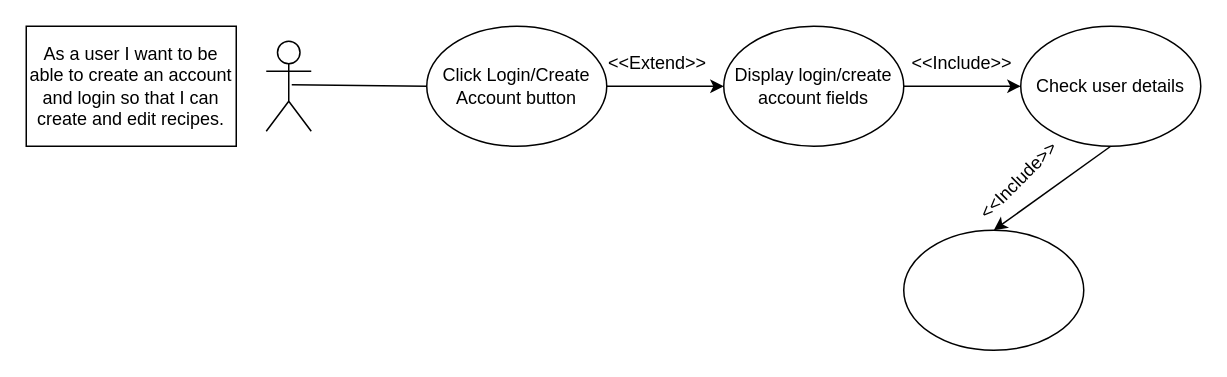
Some shapes in this 1227 by 377 pixel diagram are drawn without their labels. Each missing label, with the box of its shape:
Actor: (265, 40, 311, 131)
Login user if correct: (902, 229, 1084, 350)
